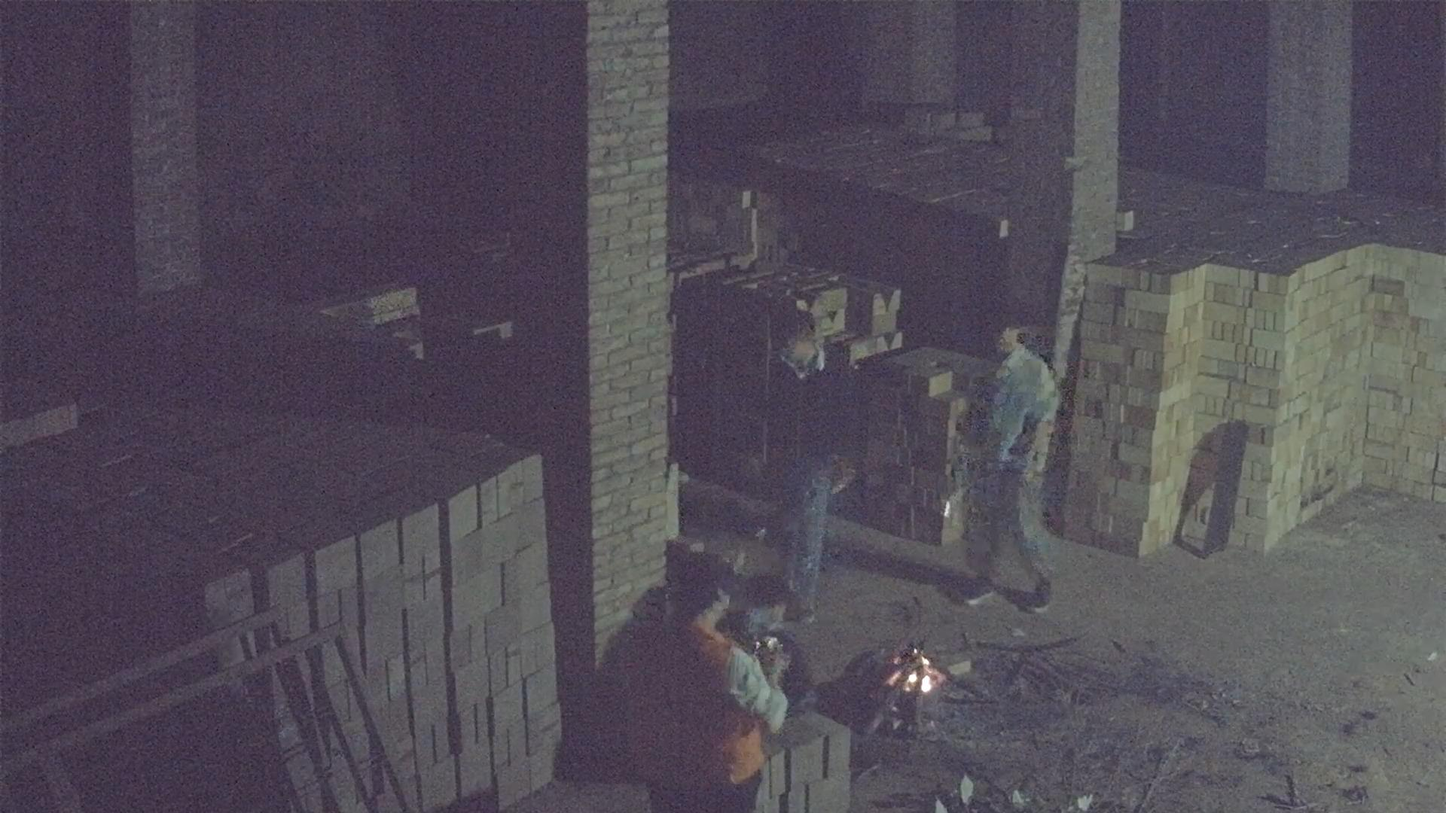fire: (883, 648, 942, 694)
